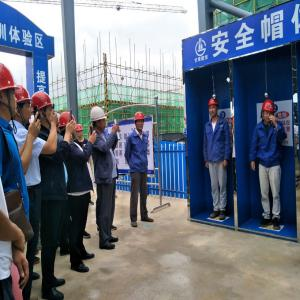red: (1, 63, 19, 122), (31, 91, 56, 128), (14, 84, 33, 124), (59, 112, 76, 136), (262, 100, 276, 124), (135, 112, 146, 132), (209, 99, 220, 117), (76, 124, 85, 139)
white: (92, 108, 108, 132)
